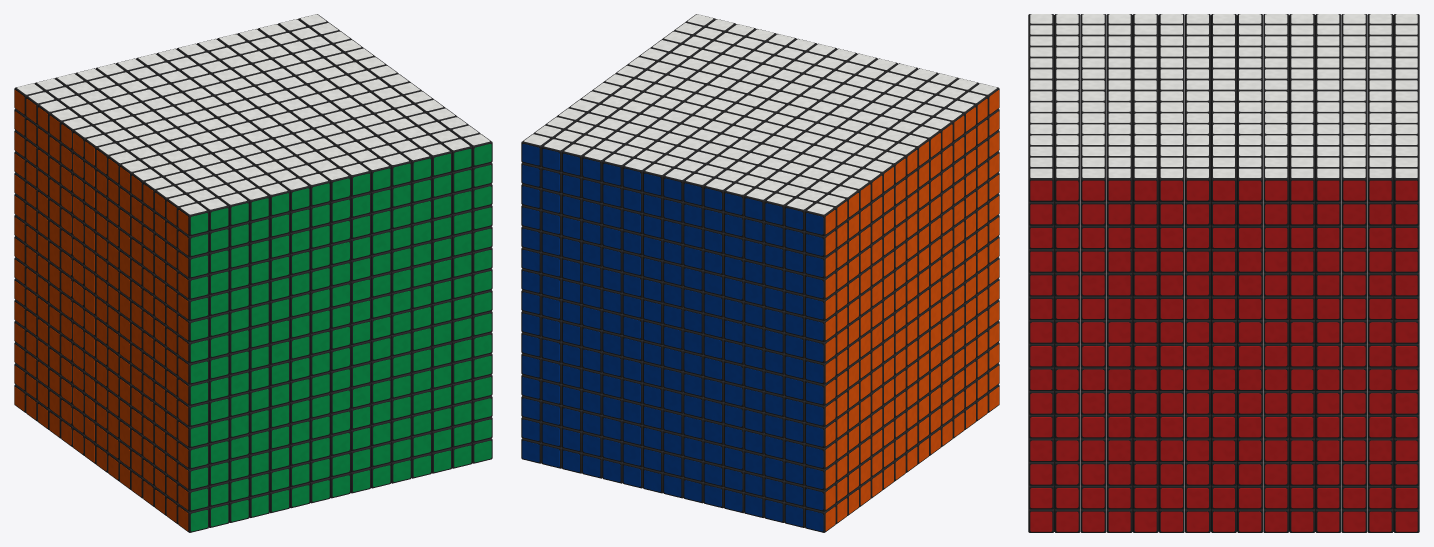
The picture shows the model from 3 angles, left to right: view 1: azimuth 30°, elevation 25°; view 2: azimuth 150°, elevation 25°; view 3: azimuth 270°, elevation 25°; orthographic projection. The views are drawn at different scales.
Parts seen in each view (by area): view 1: no part large enough to name; view 2: no part large enough to name; view 3: Cubie_14_2_0_R, Cubie_14_2_1_R, Cubie_14_2_2_R, Cubie_14_2_3_R, Cubie_14_2_4_R, Cubie_14_2_10_R, Cubie_14_2_11_R, Cubie_14_2_12_R, Cubie_14_2_13_R, Cubie_14_2_14_R, Cubie_14_5_0_R, Cubie_14_5_1_R (+181 smaller).
Boxes of the visible parts, x1=… form: Cubie_14_2_0_R: x1=1395, y1=464, x2=1417, y2=484; Cubie_14_2_1_R: x1=1369, y1=464, x2=1391, y2=484; Cubie_14_2_2_R: x1=1343, y1=464, x2=1365, y2=484; Cubie_14_2_3_R: x1=1317, y1=464, x2=1339, y2=484; Cubie_14_2_4_R: x1=1291, y1=464, x2=1313, y2=484; Cubie_14_2_10_R: x1=1134, y1=464, x2=1156, y2=484; Cubie_14_2_11_R: x1=1108, y1=464, x2=1130, y2=484; Cubie_14_2_12_R: x1=1082, y1=464, x2=1104, y2=484; Cubie_14_2_13_R: x1=1056, y1=464, x2=1078, y2=484; Cubie_14_2_14_R: x1=1030, y1=464, x2=1052, y2=484; Cubie_14_5_0_R: x1=1395, y1=393, x2=1417, y2=413; Cubie_14_5_1_R: x1=1369, y1=393, x2=1391, y2=413.
Bounding box in the file's own units: 15.01 × 15.01 × 15.01.
Materials: 7 (6 with a texture image).
